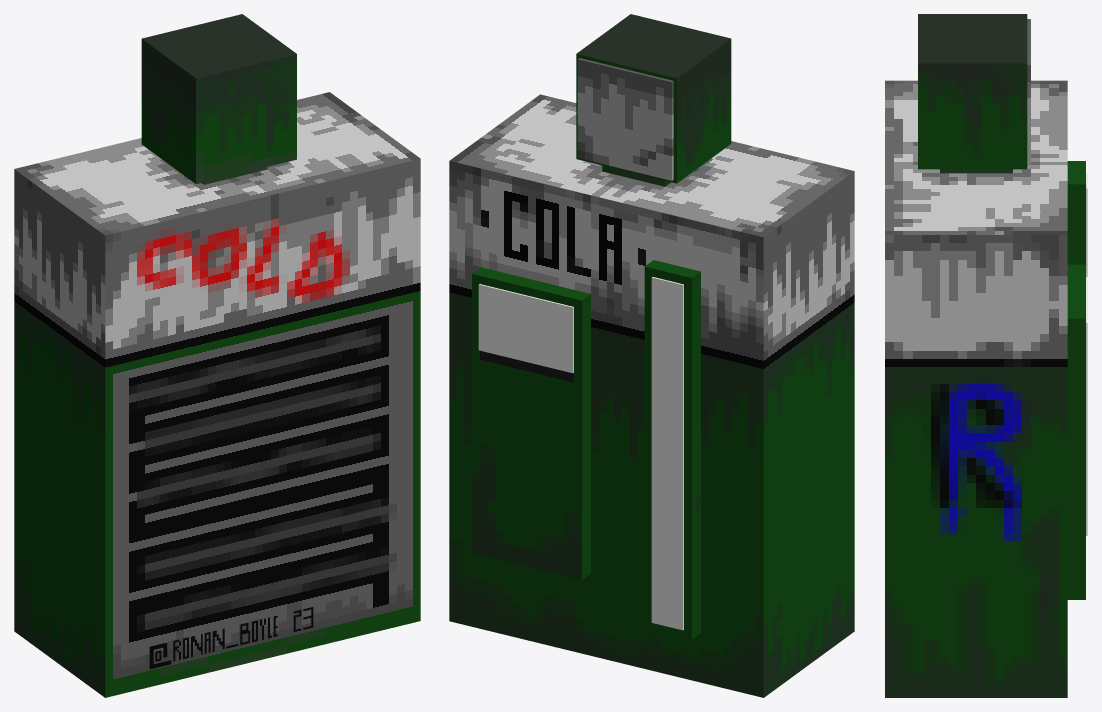
3 renders of one model, left to right at view 1: azimuth 30°, elevation 25°; view 2: azimuth 150°, elevation 25°; view 3: azimuth 270°, elevation 25°, orthographic.
Visible parts, largest first — view 1: cube (×3); view 2: cube (×7); view 3: cube (×7).
Boxes of the visible parts, x1,y1,x2,y2 form: cube (×3): (14, 14, 420, 697); cube (×7): (449, 14, 854, 697); cube (×7): (885, 14, 1087, 697).
Bounding box in the file's own units: 1.25 × 2.2 × 0.7001.
3 materials, 3 textured.
